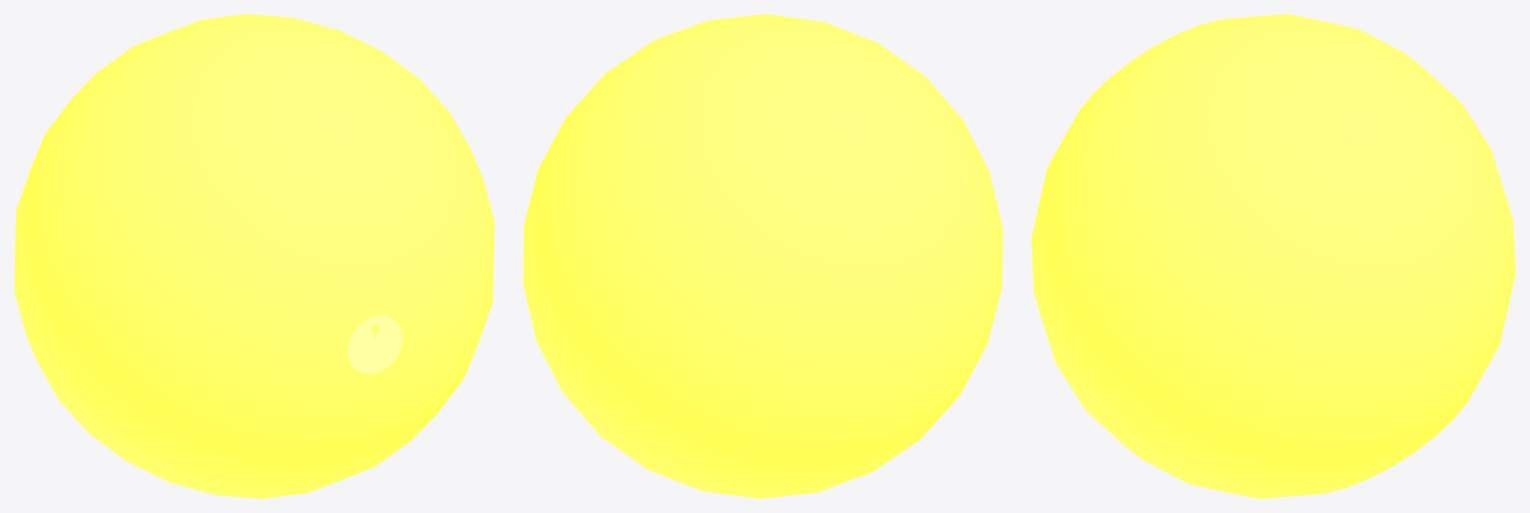
Rendered from ball-1.glb.
3 renders of one model, left to right at view 1: azimuth 30°, elevation 25°; view 2: azimuth 150°, elevation 25°; view 3: azimuth 270°, elevation 25°, orthographic.
Parts seen in each view (by area): view 1: BallGlow, LogosGlow; view 2: BallGlow; view 3: BallGlow.
Part boxes in pixels (<box>): BallGlow: <box>14,14,494,498</box>; LogosGlow: <box>348,315,402,374</box>; BallGlow: <box>523,14,1002,498</box>; BallGlow: <box>1031,14,1515,498</box>.
Size of the model in its own units: 0.333 by 0.3376 by 0.3368.
